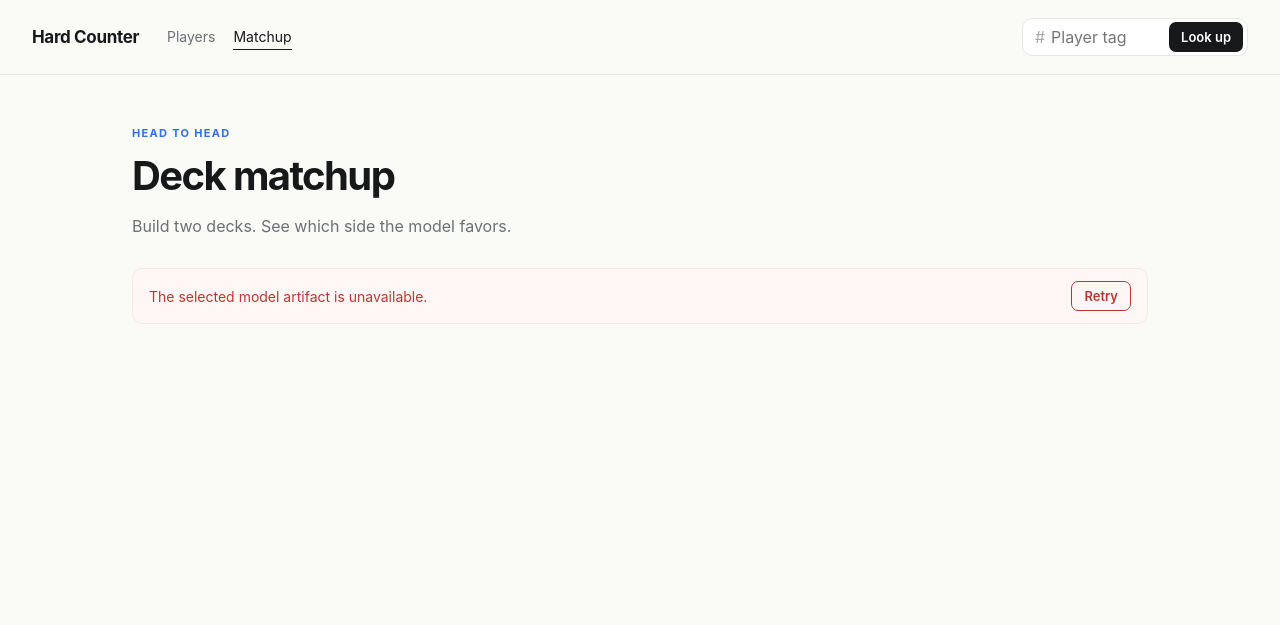
Test: MatchupPage › explains model failures and retries loading its choices
Expected: the message shows "selected model artifact is unavailable", [149, 288, 427, 304]
Step 1. Click the button "Retry" → (1101, 296), box [1071, 281, 1131, 311]
(page scrolled)
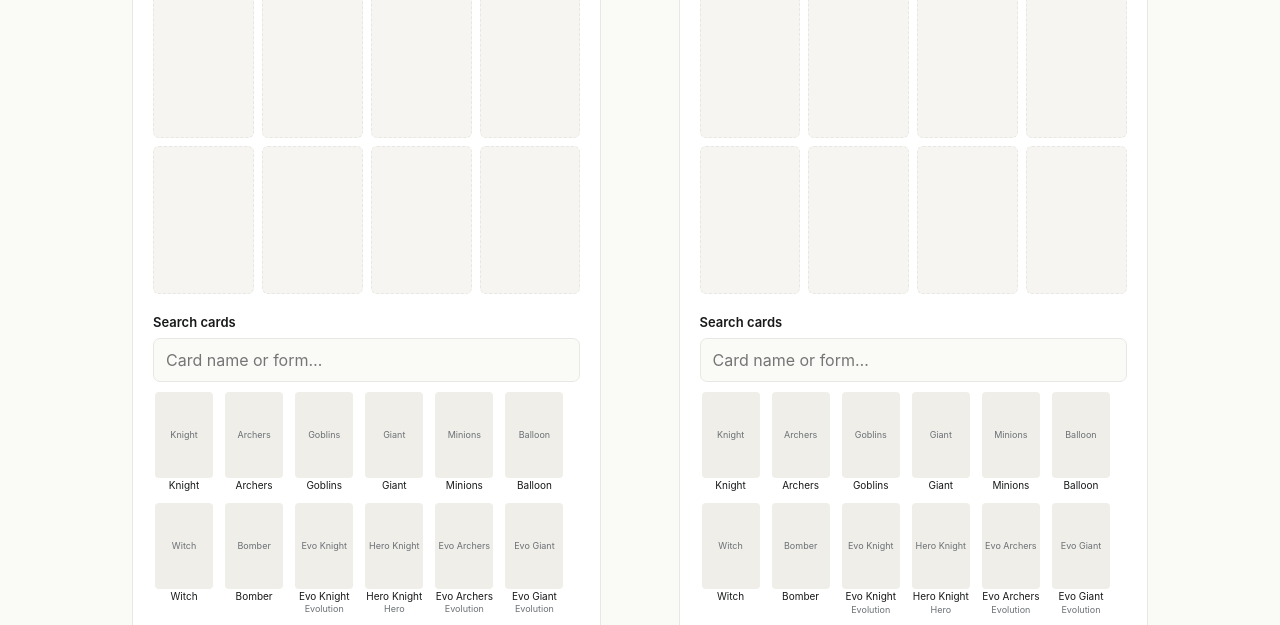
Expected: the search field named "Deck A search cards" is shown, [153, 338, 580, 382]
Expected: the message "The selected model artifact is unavailable. Retry" is gone
